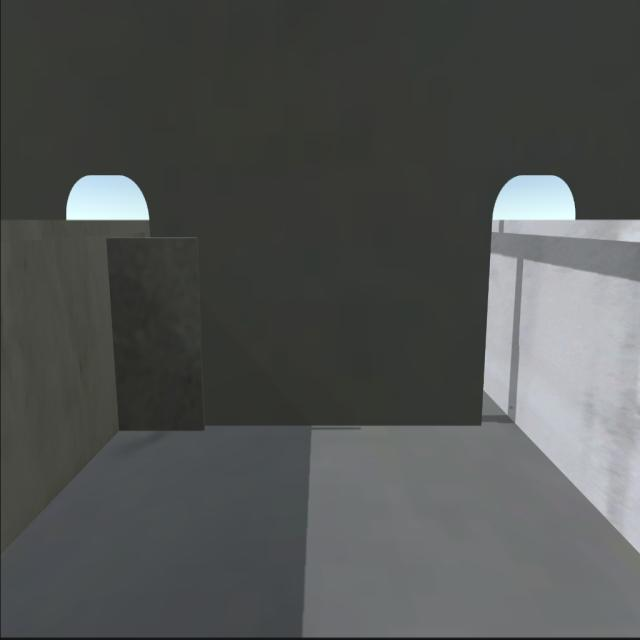fillet_yong_jeop_jang: (115, 417, 483, 431)
longi_yong_jeop_jang: (98, 236, 134, 432)
plate_CP01: (104, 236, 207, 434)
